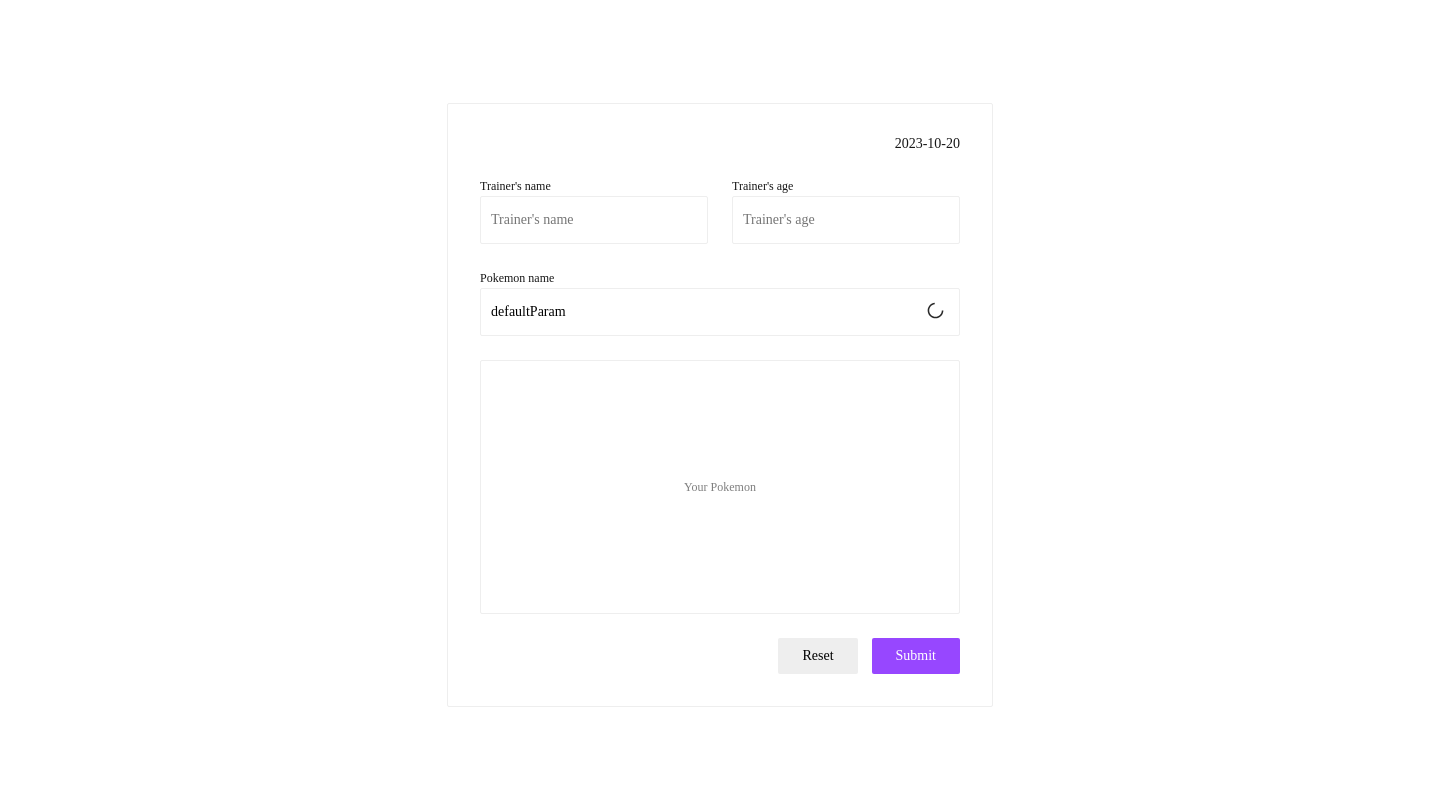
Test: FormSection Component › handles form submission
The width and height of the screenshot is (1440, 810).
Type "Ash" into the field labelled "Trainer's name" at (594, 220), box [480, 196, 708, 244]
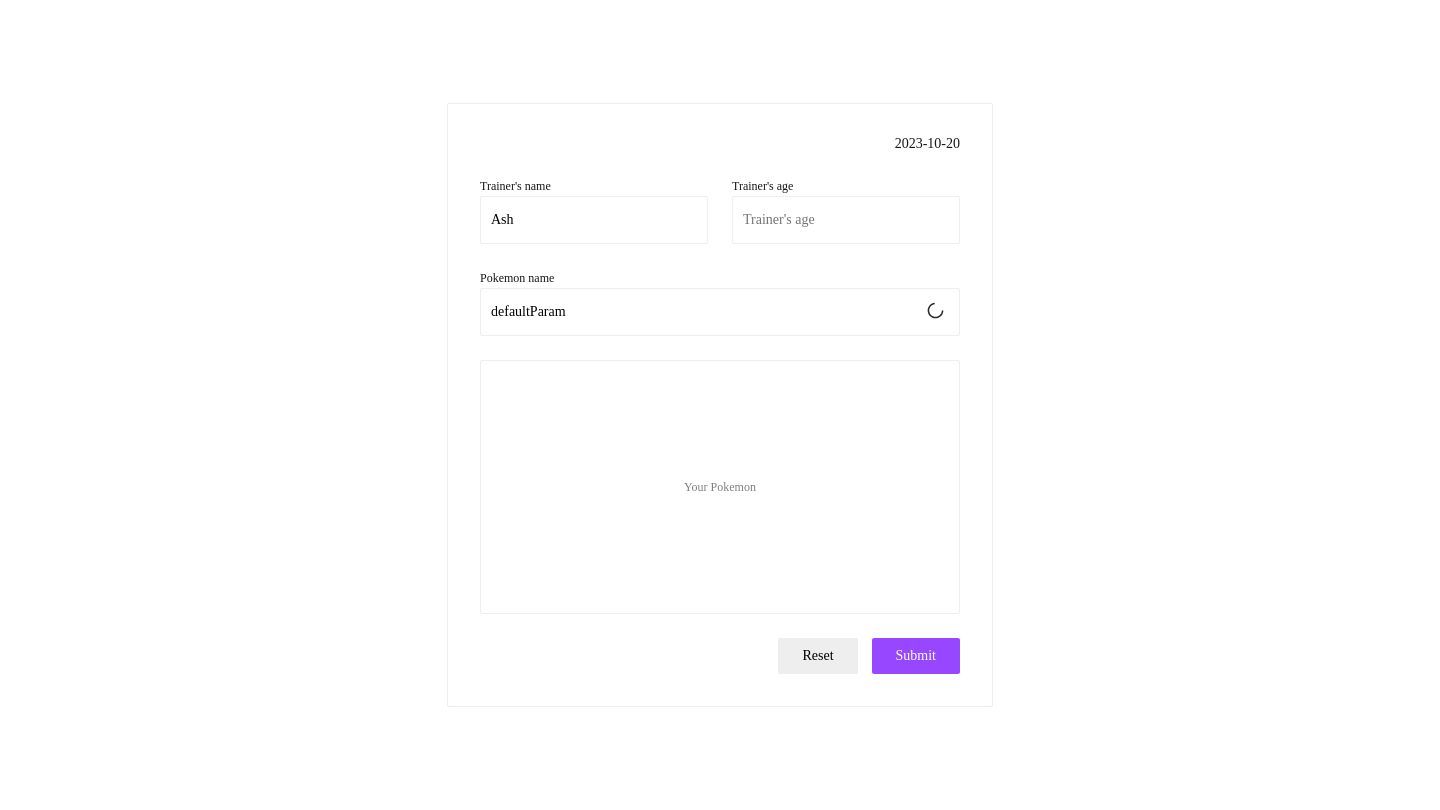
Type "20" into the number field labelled "Trainer's age" at (846, 220), box [732, 196, 960, 244]
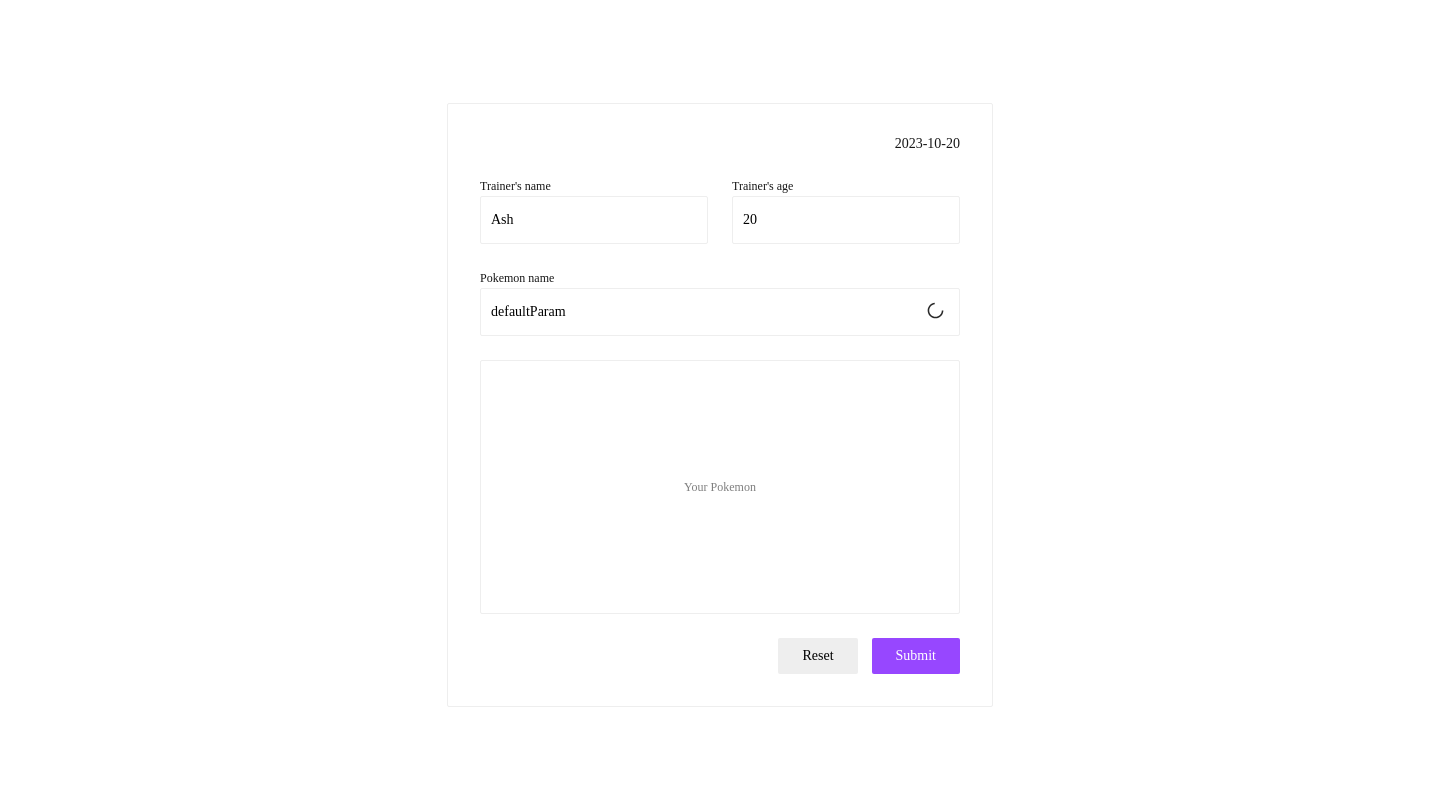
Click the button "Submit" at (916, 656), box [872, 638, 960, 674]
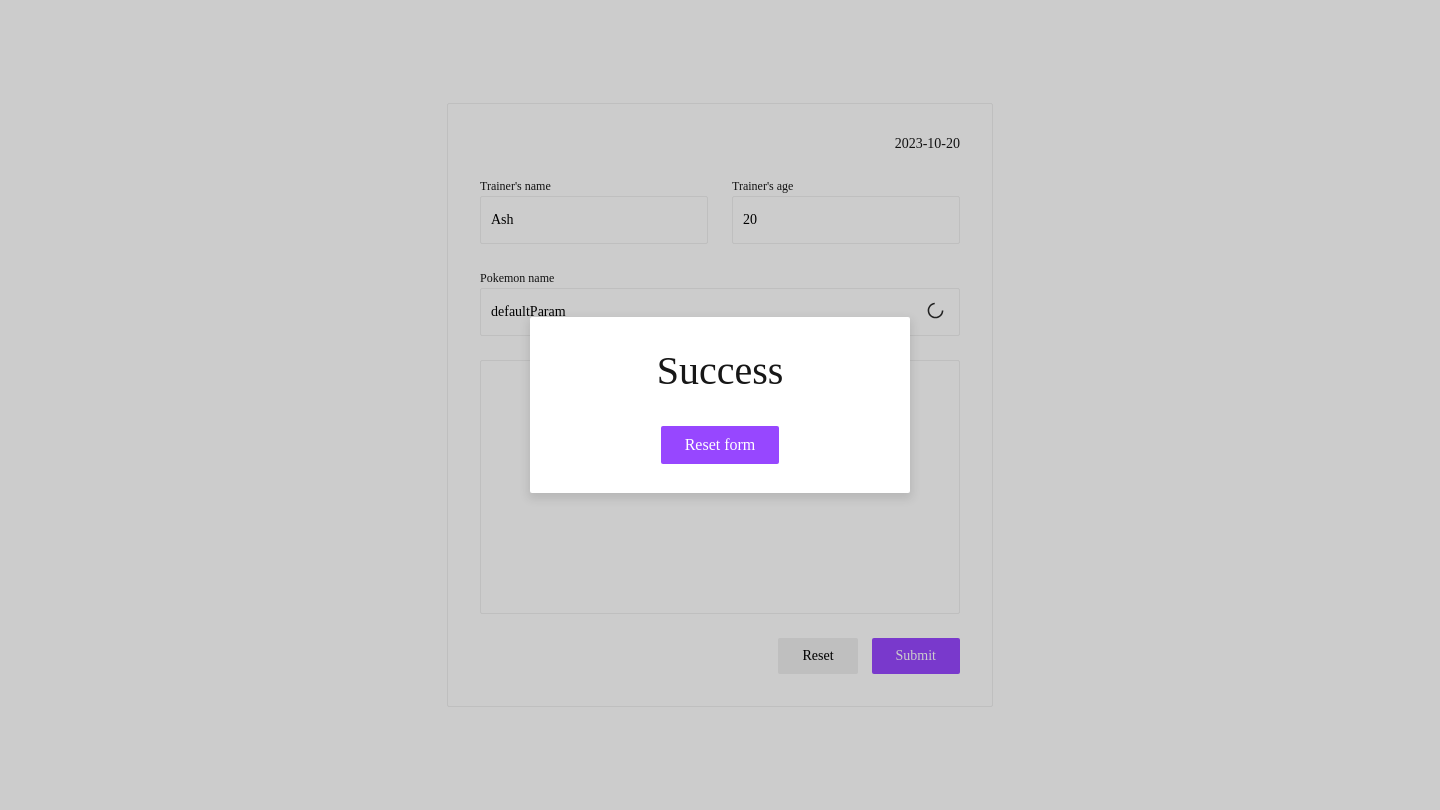
Result: the text "Success" is shown at [657, 346, 783, 394]
